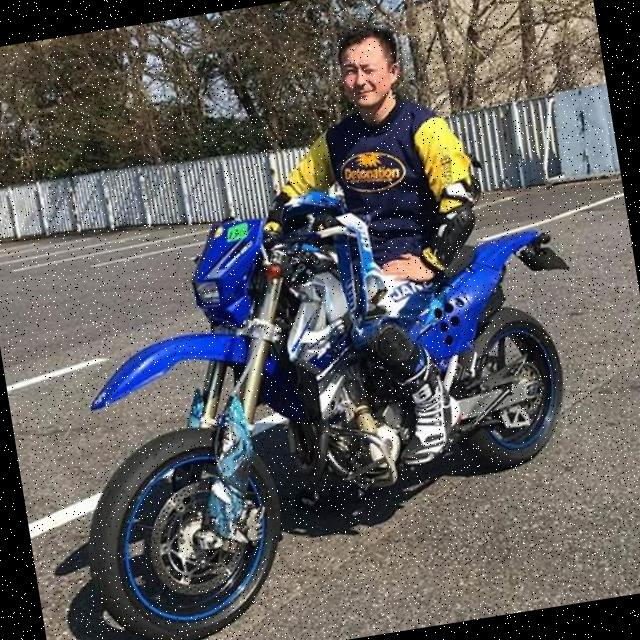No helmet: (312, 5, 424, 132)
